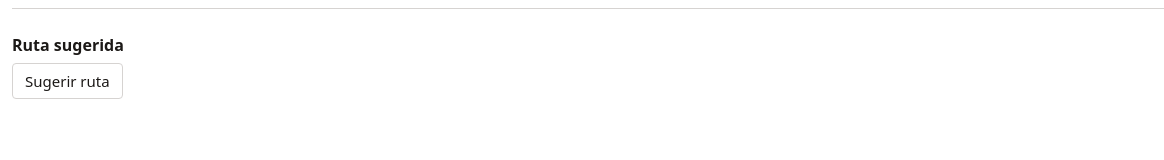
Test case: pedir una ruta › el error del servidor se muestra tal cual
Click the button "Sugerir ruta": {"x": 67, "y": 81} 12,63 -> 123,99
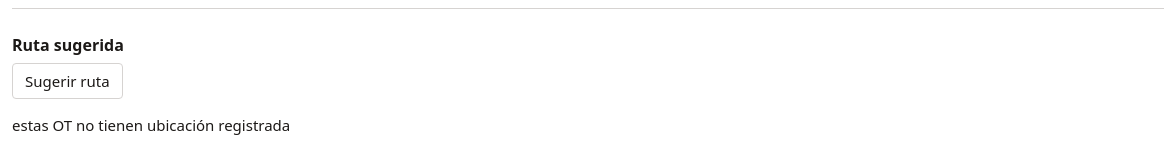
expect the text "estas OT no tienen ubicación registrada" is shown: met, box 12,115 -> 290,135
